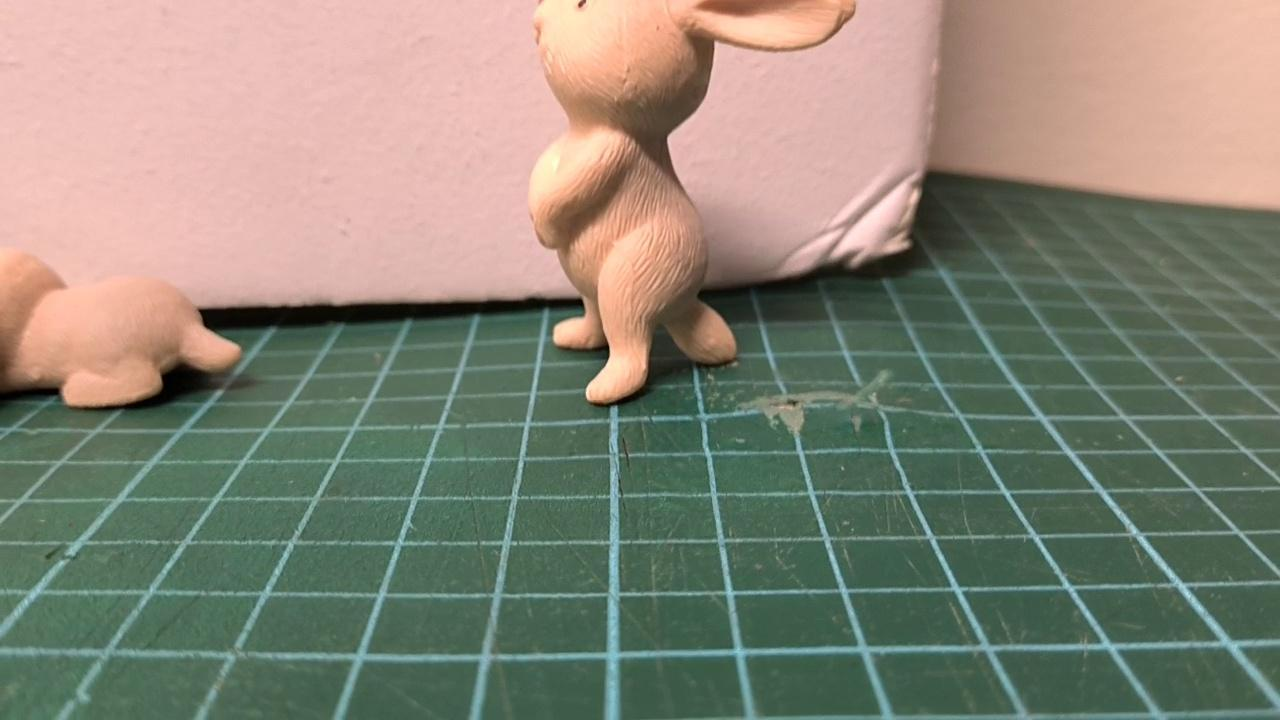pet: (529, 0, 856, 405), (0, 252, 243, 409)
